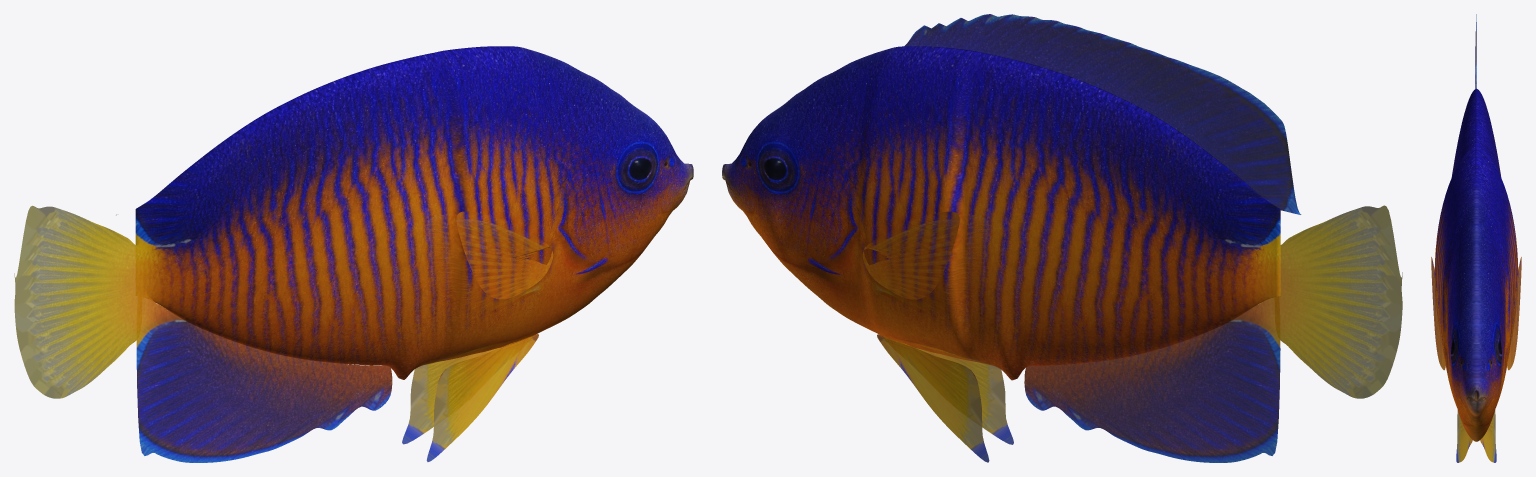
Rendered from bispinosa-B2tqcQKB.glb.
3 renders of one model, left to right at view 1: azimuth 30°, elevation 25°; view 2: azimuth 150°, elevation 25°; view 3: azimuth 270°, elevation 25°, orthographic. The views are drawn at different scales.
Visible parts, largest first — view 1: bispinosa__body, bispinosa__fin_2, bispinosa__fin_0, bispinosa__pectoral_1, bispinosa__gill_1, bispinosa__pelvic_1, bispinosa__pelvic_-1, bispinosa__eye_1; view 2: bispinosa__body, bispinosa__fin_2, bispinosa__fin_1, bispinosa__fin_0, bispinosa__pectoral_-1, bispinosa__gill_-1, bispinosa__pelvic_-1, bispinosa__pelvic_1, bispinosa__eye_-1; view 3: bispinosa__body, bispinosa__pectoral_1, bispinosa__pectoral_-1, bispinosa__pelvic_1, bispinosa__pelvic_-1, bispinosa__gill_1, bispinosa__gill_-1, bispinosa__fin_1, bispinosa__eye_1, bispinosa__eye_-1.
Part boxes in pixels (box(x1,y1,x2,y2)): bispinosa__body: box(135, 46, 693, 379); bispinosa__fin_2: box(136, 288, 392, 462); bispinosa__fin_0: box(14, 205, 142, 398); bispinosa__pectoral_1: box(456, 211, 553, 299); bispinosa__gill_1: box(555, 135, 610, 283); bispinosa__pelvic_1: box(426, 334, 538, 461); bispinosa__pelvic_-1: box(402, 348, 499, 444); bispinosa__eye_1: box(623, 151, 654, 187); bispinosa__body: box(722, 46, 1280, 380); bispinosa__fin_2: box(1024, 296, 1280, 462); bispinosa__fin_1: box(904, 14, 1301, 214); bispinosa__fin_0: box(1274, 205, 1402, 398); bispinosa__pectoral_-1: box(862, 211, 959, 299); bispinosa__gill_-1: box(805, 135, 860, 284); bispinosa__pelvic_-1: box(877, 334, 989, 462); bispinosa__pelvic_1: box(915, 348, 1013, 444); bispinosa__eye_-1: box(761, 151, 791, 187); bispinosa__body: box(1434, 88, 1518, 441); bispinosa__pectoral_1: box(1431, 257, 1446, 370); bispinosa__pectoral_-1: box(1506, 257, 1521, 370); bispinosa__pelvic_1: box(1456, 410, 1472, 462); bispinosa__pelvic_-1: box(1480, 410, 1496, 462); bispinosa__gill_1: box(1448, 275, 1454, 391); bispinosa__gill_-1: box(1498, 275, 1504, 391); bispinosa__fin_1: box(1475, 14, 1476, 183); bispinosa__eye_1: box(1451, 330, 1456, 360); bispinosa__eye_-1: box(1496, 330, 1501, 360).
Size of the model in its own units: 1.23 by 0.7705 by 0.1721.
Materials: 5 (5 with a texture image).
